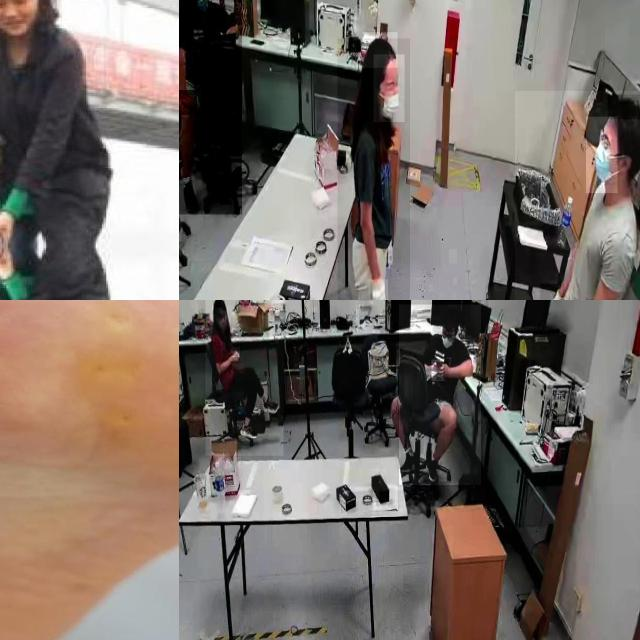Barefoots: (0, 300, 179, 640)
face_mask: (586, 117, 618, 193), (374, 54, 404, 122), (191, 0, 212, 19), (442, 324, 454, 354)
face_nomask: (0, 0, 35, 30), (218, 312, 228, 330)
hand_glove: (368, 279, 388, 300), (540, 283, 564, 300)
hand_noglove: (0, 208, 15, 242), (179, 90, 197, 116), (432, 360, 444, 382), (437, 362, 449, 380), (228, 353, 240, 362), (232, 347, 240, 358)
head_nohelmet: (362, 32, 398, 69), (607, 94, 640, 120), (442, 308, 458, 323), (212, 300, 225, 308)
person: (0, 0, 124, 300), (515, 91, 640, 300), (337, 38, 410, 300), (399, 304, 481, 486), (179, 0, 242, 215), (205, 300, 284, 456)
shoes: (179, 172, 205, 222), (424, 449, 440, 485), (260, 390, 280, 418), (237, 419, 258, 445), (398, 450, 418, 477)
